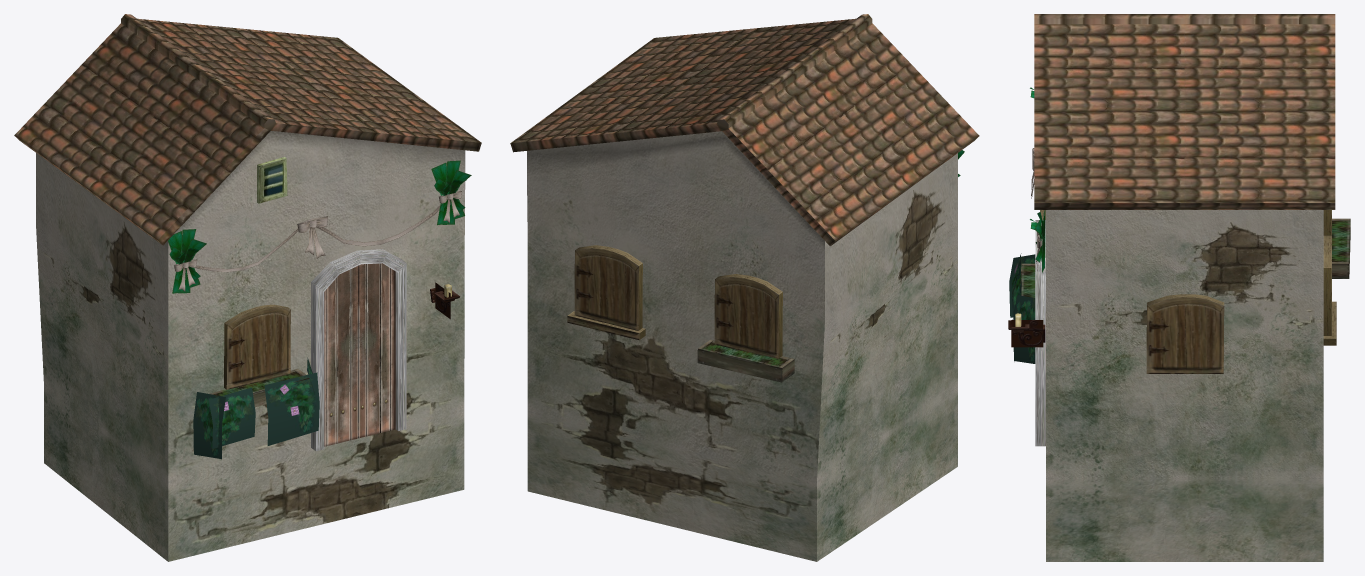
File: spanish_npc_house_p_exterior.fbx
The picture shows the model from 3 angles, left to right: view 1: azimuth 30°, elevation 25°; view 2: azimuth 150°, elevation 25°; view 3: azimuth 270°, elevation 25°; orthographic projection. The views are drawn at different scales.
Parts seen in each view (by area): view 1: house, roof, door_left, door_frame, window49, vine, vine3, vine8, window48, window_seal1, decoRibbon_01; view 2: house, roof, window, window7, window_seal, window1; view 3: house, roof, window6, door_frame, window_seal, window, vine7, LightSupport1, vine8, window_seal1.
Part boxes in pixels (x1,y1,x2,y2): house: (36,131,465,561); roof: (14,14,481,245); door_left: (324,263,395,446); door_frame: (311,249,406,451); window49: (224,304,290,389); vine: (264,372,319,445); vine3: (209,387,255,448); vine8: (193,392,225,459); window48: (257,157,287,203); window_seal1: (209,368,309,407); decoRibbon_01: (316,205,440,246); house: (527,131,957,561); roof: (510,14,979,246); window: (574,245,642,330); window7: (714,274,782,358); window_seal: (697,339,794,382); window1: (567,311,645,340); house: (1046,210,1323,561); roof: (1034,14,1335,209); window6: (1146,294,1224,373); door_frame: (1035,220,1045,446); window_seal: (1332,218,1350,278); window: (1323,235,1331,335); vine7: (1013,295,1035,363); LightSupport1: (1011,320,1043,347); vine8: (1009,254,1035,317); window_seal1: (1020,263,1035,297).
Size of the model in its own units: 2135 by 2667 by 1860.
3 materials, 3 textured.
